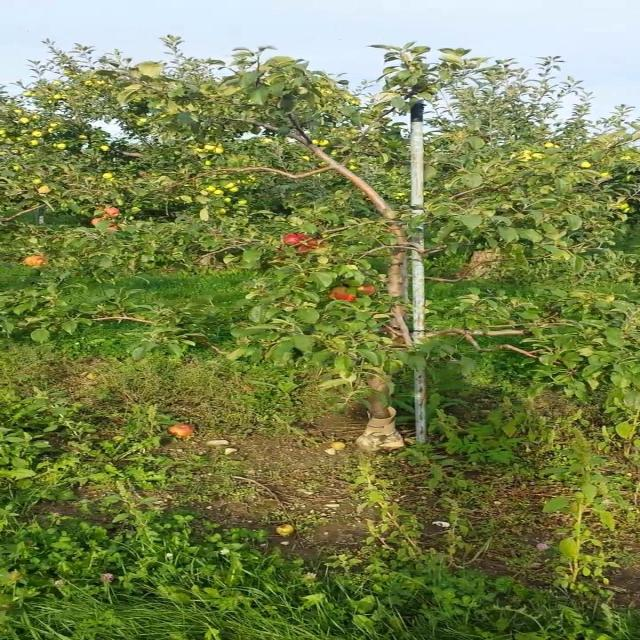apple: (0, 0, 639, 112), (329, 286, 356, 301), (296, 236, 320, 251), (282, 232, 309, 245), (22, 255, 47, 266), (296, 239, 318, 251), (104, 206, 120, 218), (358, 285, 376, 295), (107, 224, 120, 231), (91, 218, 102, 226)
